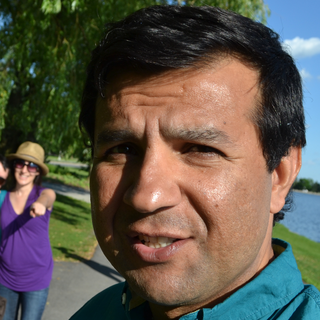eye: (173, 138, 233, 166), (94, 138, 147, 165)
